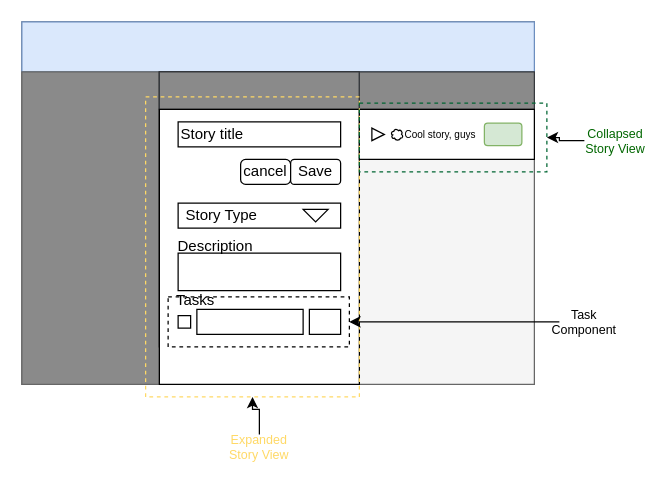
The diagram is 669 pixels wide and 484 high, and some of its shapes have lost their labels. The box of each missing label's shape, as (x1, y1, x2, y2) in pixels:
Add: (308, 308, 341, 334)
Start: (483, 122, 522, 146)
